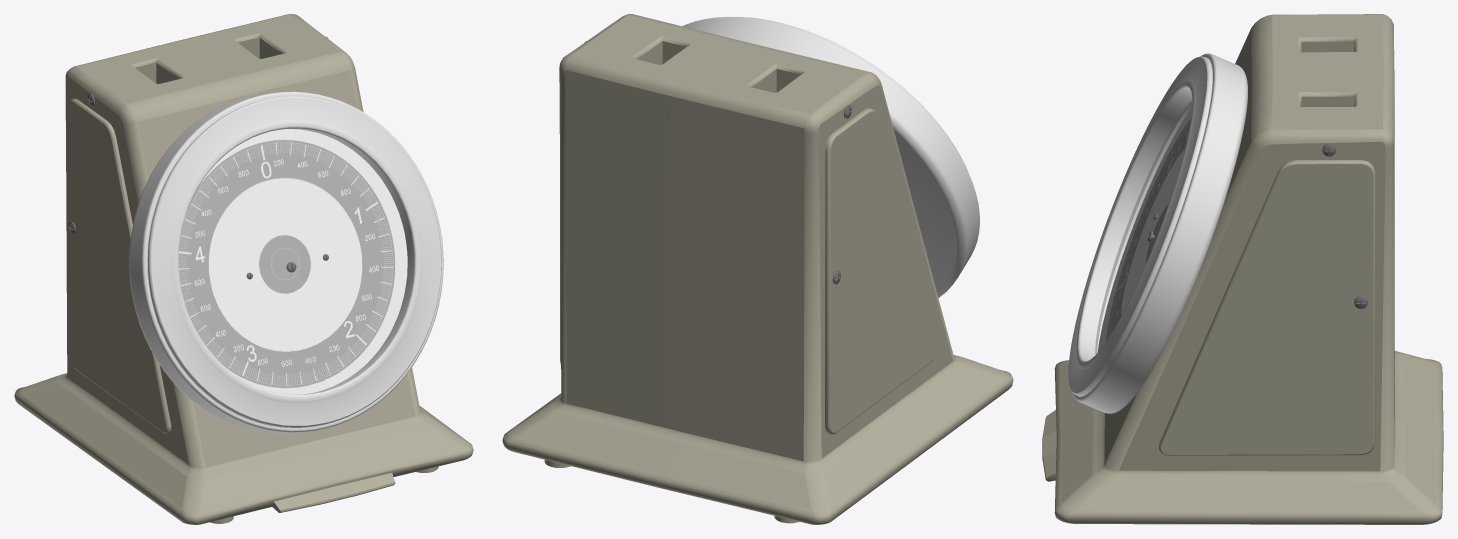
The picture shows the model from 3 angles, left to right: view 1: azimuth 30°, elevation 25°; view 2: azimuth 150°, elevation 25°; view 3: azimuth 270°, elevation 25°; orthographic projection. The views are drawn at different scales.
Visible parts, largest first — view 1: x_reg_hanson_scales_body_Untitled.008, x_reg_hanson_scales_face-display_Untitled.009, x_reg_hanson_scales_face-frame_Untitled.002, x_reg_hanson_scales_side-plates_Untitled.004; view 2: x_reg_hanson_scales_body_Untitled.008, x_reg_hanson_scales_side-plates_Untitled.004, x_reg_hanson_scales_face-frame_Untitled.002; view 3: x_reg_hanson_scales_body_Untitled.008, x_reg_hanson_scales_side-plates_Untitled.004, x_reg_hanson_scales_face-frame_Untitled.002, x_reg_hanson_scales_face-display_Untitled.009.
Part boxes in pixels (x1,y1,x2,y2): x_reg_hanson_scales_body_Untitled.008: (14, 14, 473, 524); x_reg_hanson_scales_face-display_Untitled.009: (179, 129, 407, 394); x_reg_hanson_scales_face-frame_Untitled.002: (129, 91, 443, 433); x_reg_hanson_scales_side-plates_Untitled.004: (68, 98, 171, 433); x_reg_hanson_scales_body_Untitled.008: (502, 14, 1013, 524); x_reg_hanson_scales_side-plates_Untitled.004: (560, 108, 937, 434); x_reg_hanson_scales_face-frame_Untitled.002: (682, 16, 979, 297); x_reg_hanson_scales_body_Untitled.008: (1042, 14, 1443, 524); x_reg_hanson_scales_side-plates_Untitled.004: (1159, 160, 1375, 455); x_reg_hanson_scales_face-frame_Untitled.002: (1068, 53, 1247, 413); x_reg_hanson_scales_face-display_Untitled.009: (1097, 108, 1191, 352).
Bounding box in the file's own units: 0.1992 × 0.2263 × 0.2147.
4 materials, 1 textured.
